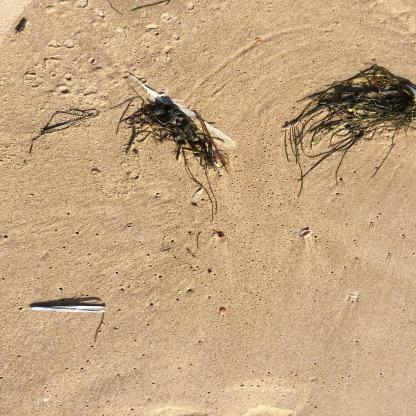trash: (26, 302, 111, 316)
